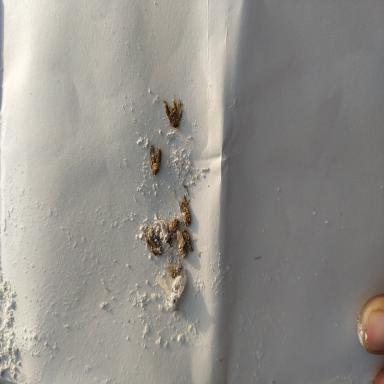pbw: (163, 216, 182, 248), (144, 225, 163, 256), (178, 195, 192, 227), (149, 145, 162, 176), (163, 100, 176, 128), (172, 95, 183, 127), (176, 229, 187, 259), (181, 228, 193, 254)
